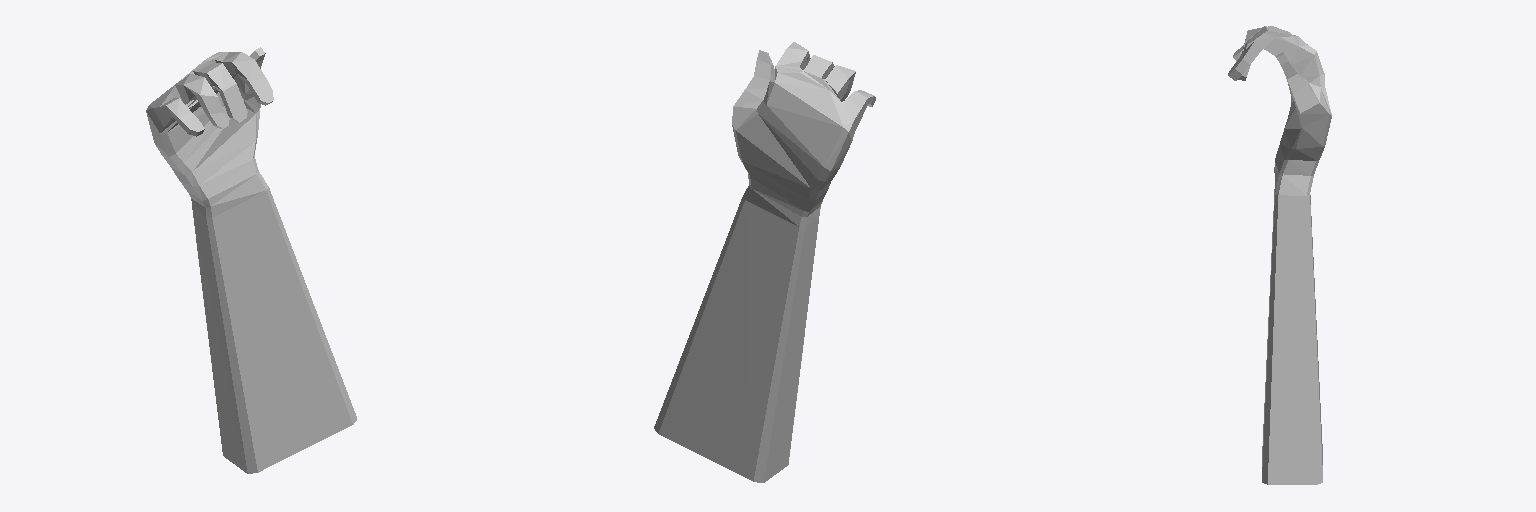
File: hand_anim8.obj
3 renders of one model, left to right at view 1: azimuth 30°, elevation 25°; view 2: azimuth 150°, elevation 25°; view 3: azimuth 270°, elevation 25°, orthographic.
Parts seen in each view (by area): view 1: Cube.001; view 2: Cube.001; view 3: Cube.001.
Boxes of the visible parts, x1=… form: Cube.001: x1=146, y1=47, x2=356, y2=473; Cube.001: x1=654, y1=42, x2=875, y2=482; Cube.001: x1=1228, y1=26, x2=1331, y2=484.
Bounding box in the file's own units: 1.4 × 2.93 × 0.66.